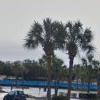Palm tree: (23, 15, 96, 81)
